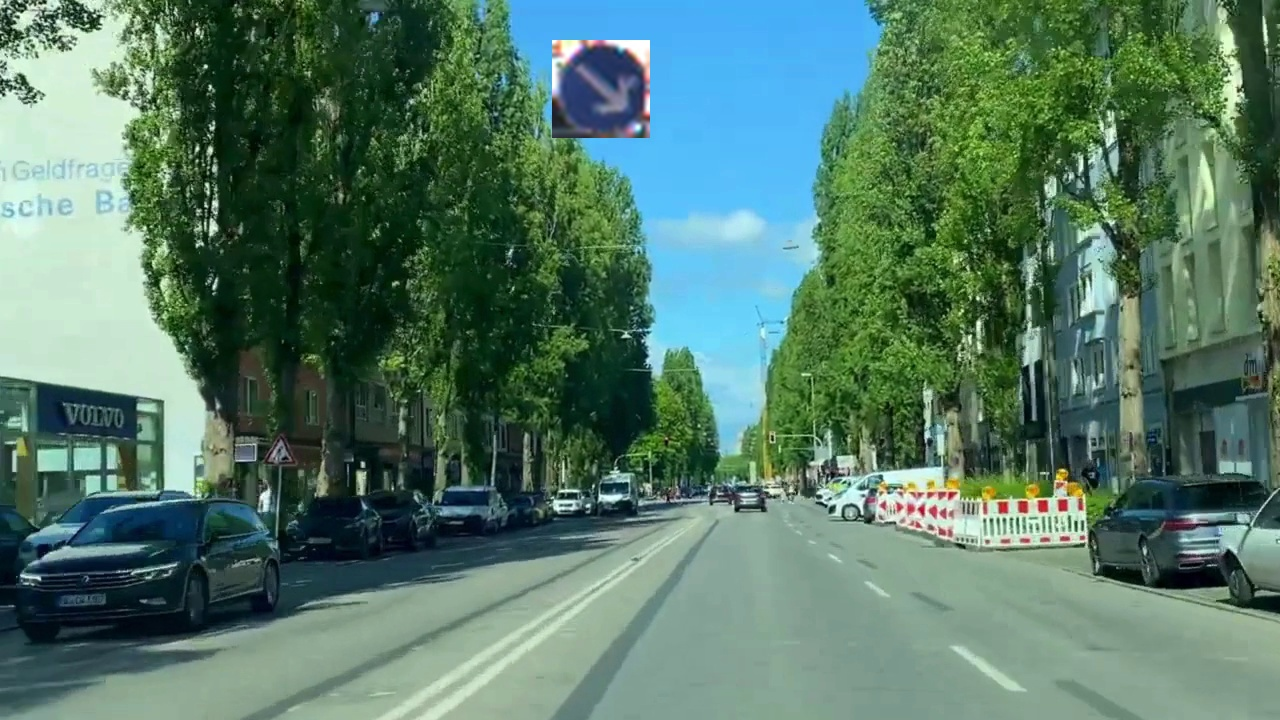Keep right: (552, 40, 650, 138)
